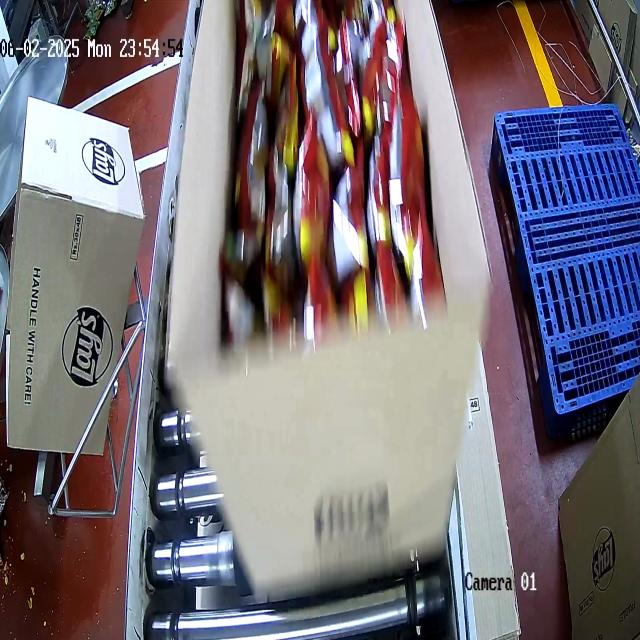MASALA: (227, 0, 422, 339)
